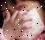with_mask: (1, 2, 45, 40)
